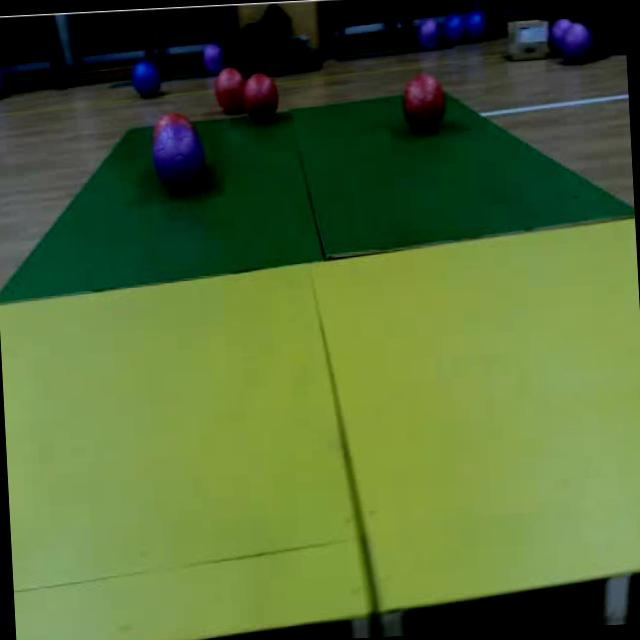blue_ball: (148, 118, 210, 196), (129, 57, 163, 98), (444, 10, 468, 50), (467, 10, 486, 48), (0, 64, 4, 102)
purple_ball: (562, 20, 594, 71), (550, 15, 578, 58), (198, 39, 224, 79), (420, 18, 444, 50)
red_ball: (148, 105, 202, 179), (398, 64, 450, 138), (238, 68, 284, 129), (213, 63, 248, 114)
